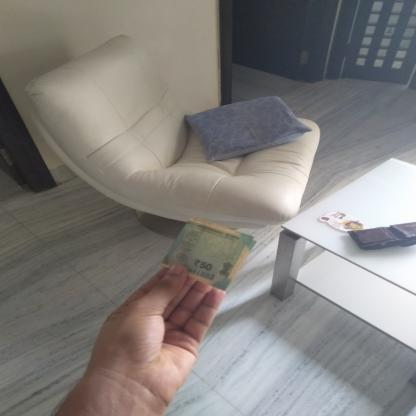New50Front: (161, 222, 249, 285)
